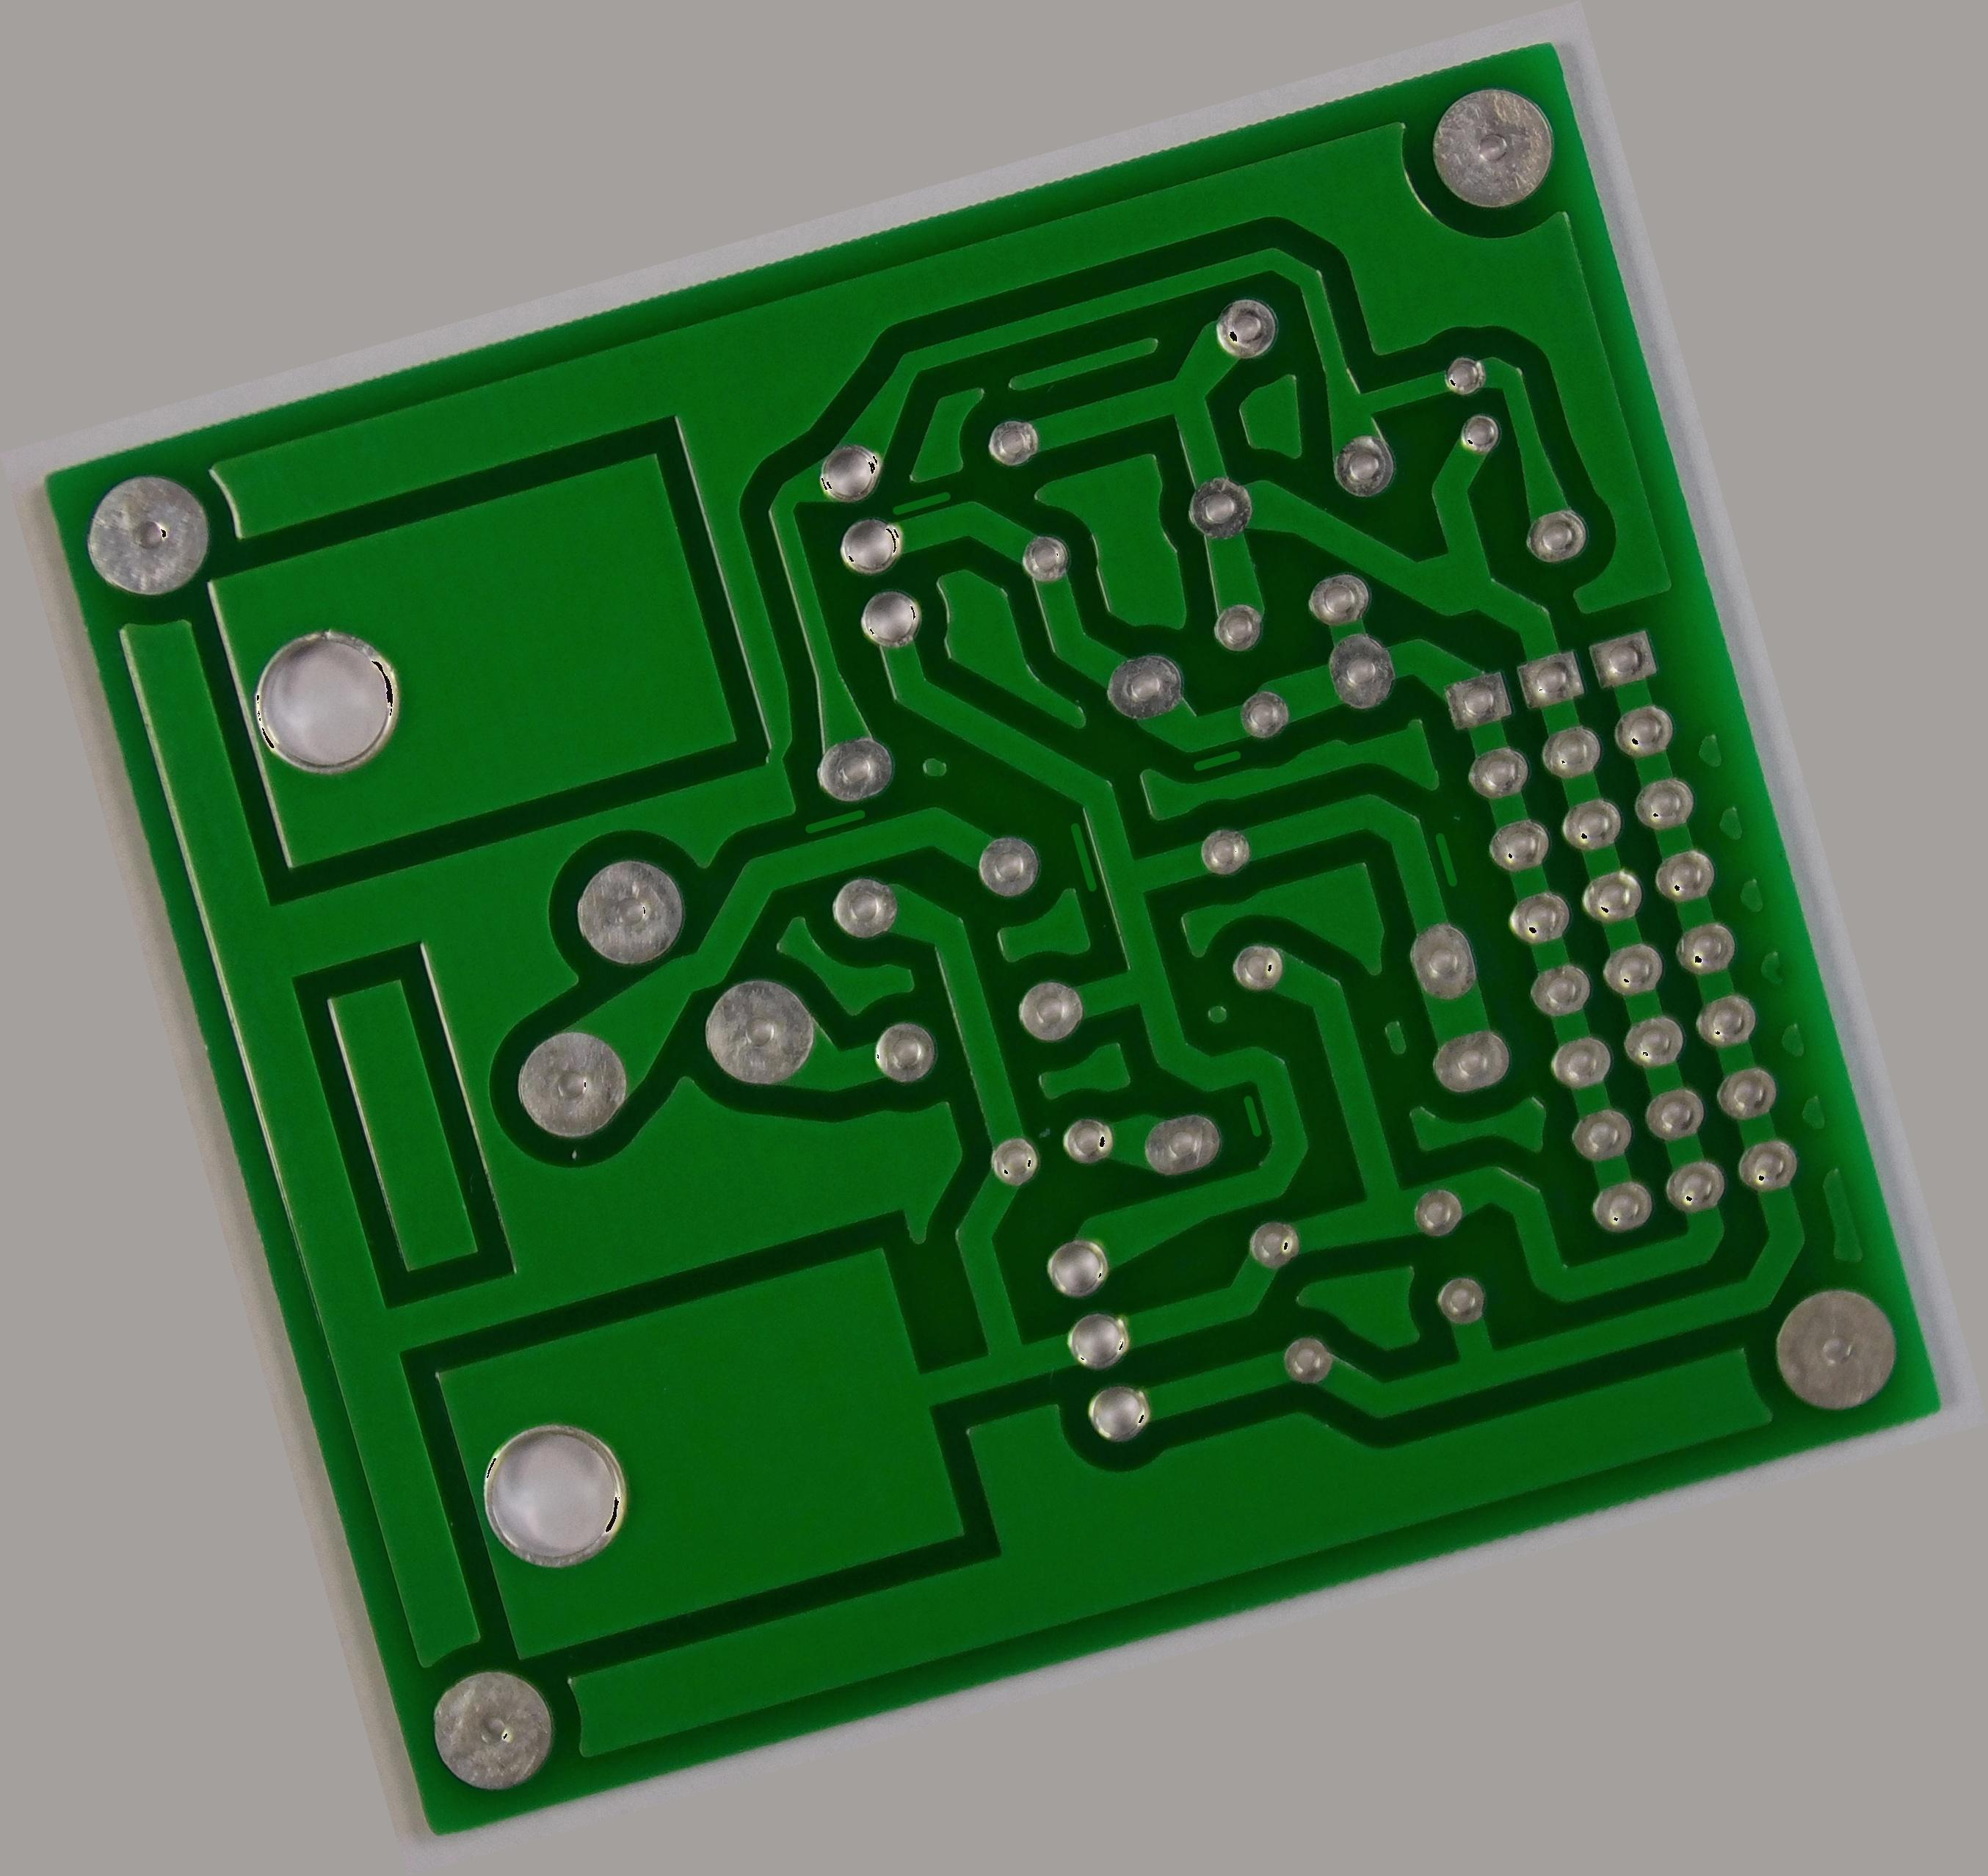spurious_copper: (1049, 808, 1110, 903), (795, 792, 878, 848), (885, 478, 959, 529), (1419, 818, 1466, 896), (1223, 1079, 1276, 1148), (1179, 733, 1250, 783)
